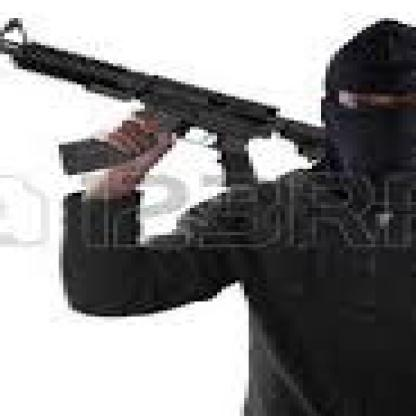gun: (0, 3, 339, 217)
